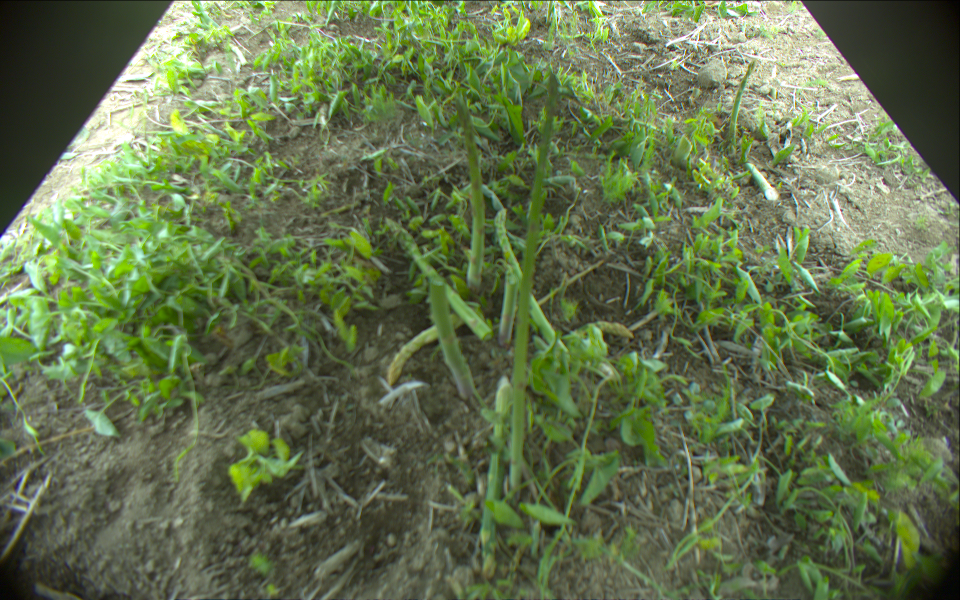aspa: (508, 72, 558, 502), (385, 217, 492, 342), (491, 205, 567, 352), (475, 379, 510, 580), (386, 311, 467, 387), (454, 101, 484, 290), (430, 277, 470, 400), (728, 61, 755, 147), (497, 271, 517, 348)
